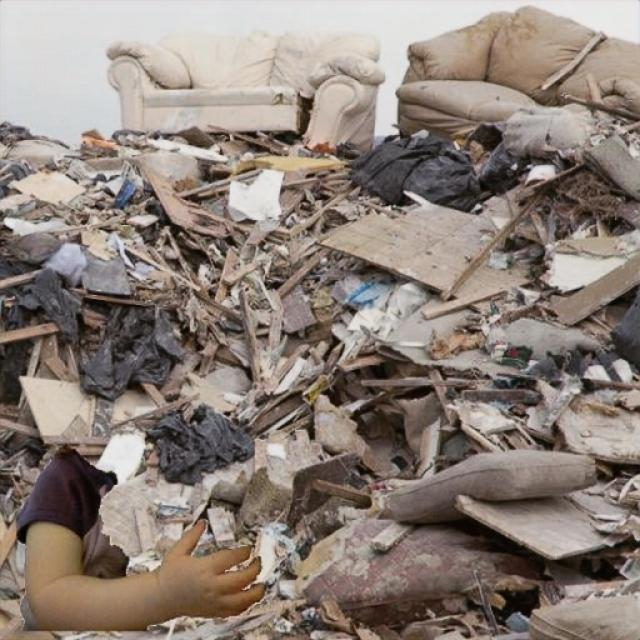Person in Rubble: (15, 444, 263, 630)
